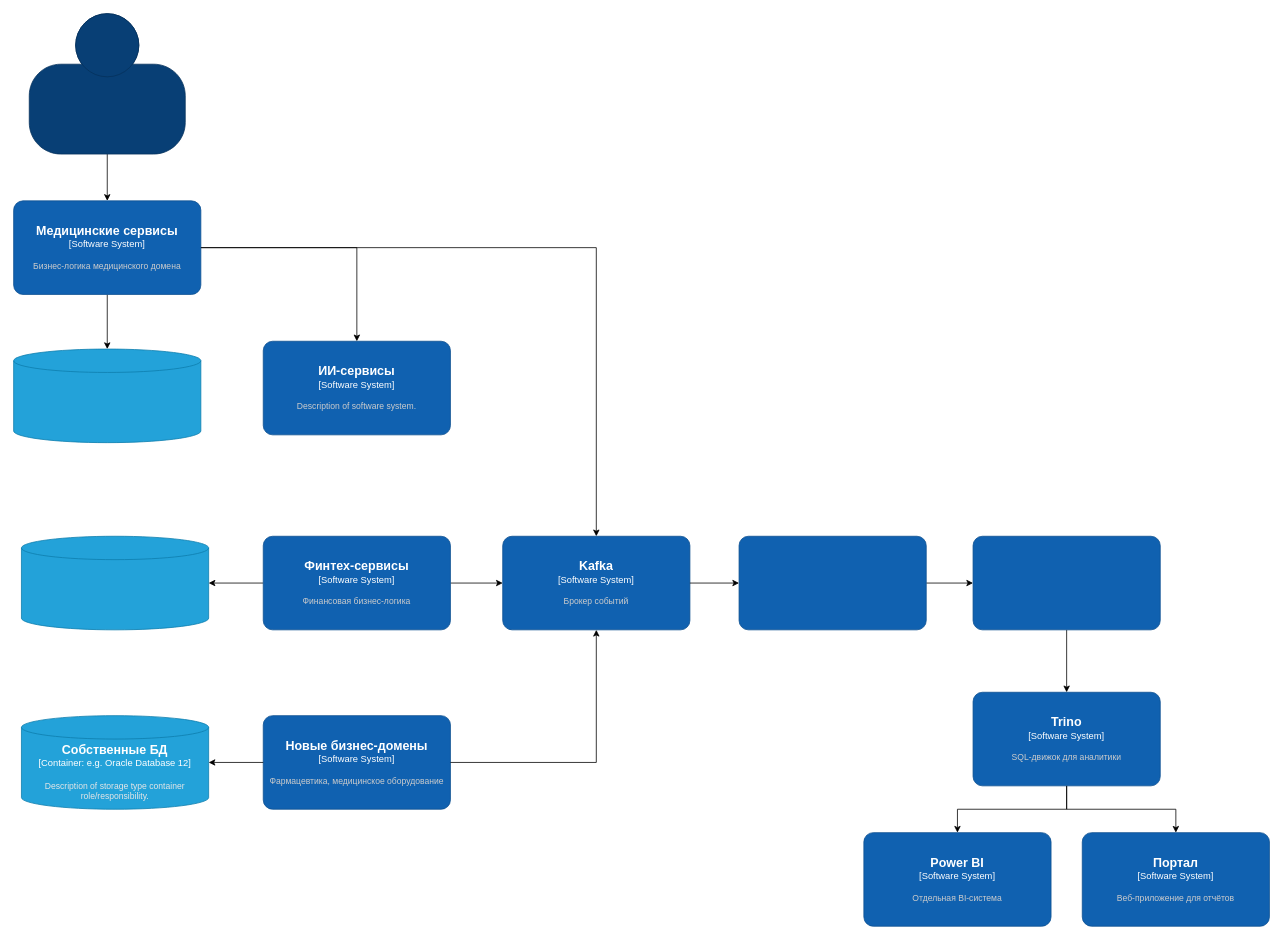
Image size: 1283x940. Some labels were removed from this diagram. Each missing label, with the centre of its shape:
"Data Processing [Software System] Flink" belongs at point (832, 582).
"Lakehouse [Software System] S3 + Iceberg" belongs at point (1066, 582).
"Медицинская БД [Container: e.g. Oracle Database 12] Хранение медицинских данных" belongs at point (107, 395).
"Операторы клиник [Person] Пользователи системы" belongs at point (106, 83).
"Финтех БД [Container: e.g. Oracle Database 12] Финансовые данные" belongs at point (115, 582).
